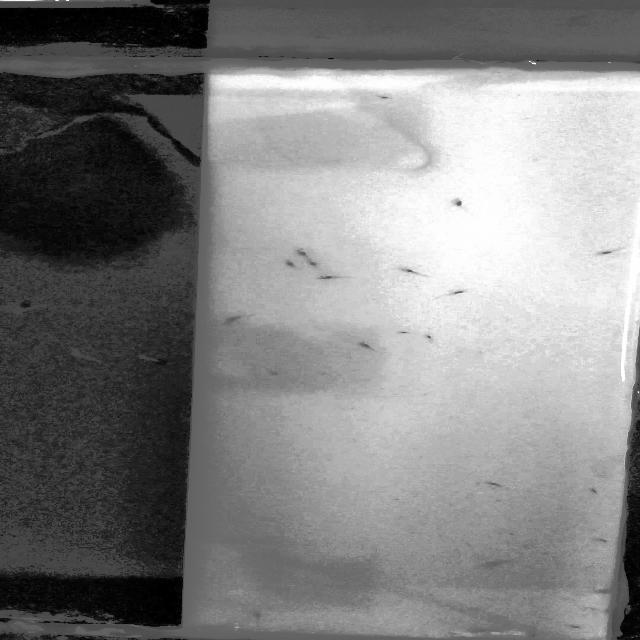shrimp: (590, 244, 629, 258), (221, 312, 259, 324), (403, 266, 437, 279), (483, 559, 522, 570), (486, 476, 512, 491), (312, 275, 359, 282), (248, 609, 267, 625), (590, 586, 613, 598), (472, 626, 502, 635), (362, 340, 383, 352), (372, 92, 399, 101), (448, 287, 472, 297), (424, 333, 441, 347), (304, 258, 329, 267), (564, 622, 586, 632), (589, 535, 613, 544), (295, 248, 316, 258), (396, 328, 419, 337), (443, 199, 468, 207), (588, 487, 603, 499), (528, 629, 544, 640), (280, 257, 296, 267), (266, 371, 286, 377)
